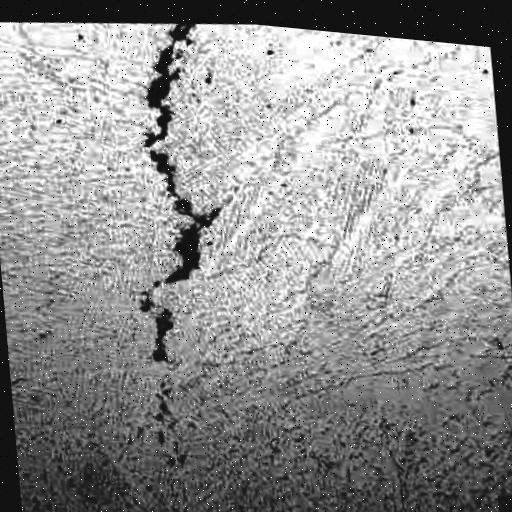crack: (150, 151, 210, 281), (145, 23, 194, 146), (154, 313, 171, 359)
